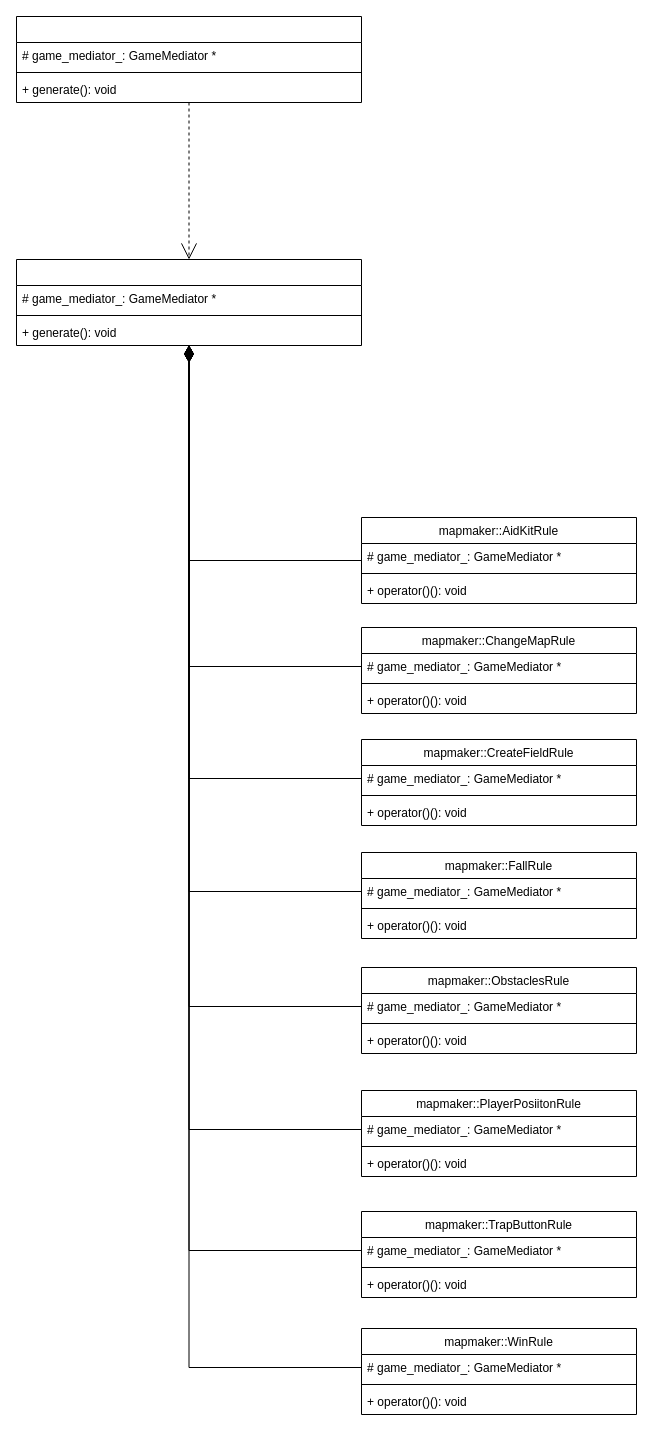
Some shapes in this 653 by 1431 pixel diagram are drawn without their labels. The box of each missing label's shape, as (x1, y1, x2, y2) in pixels:
mapmaker::MapGenerator: (16, 258, 362, 346)
mapmaker::MapPresetsCollector: (16, 16, 362, 102)
